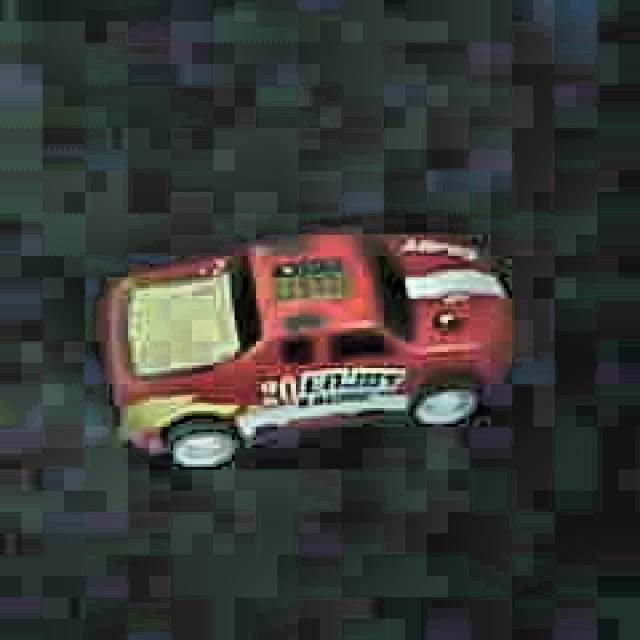car: (104, 225, 521, 484)
